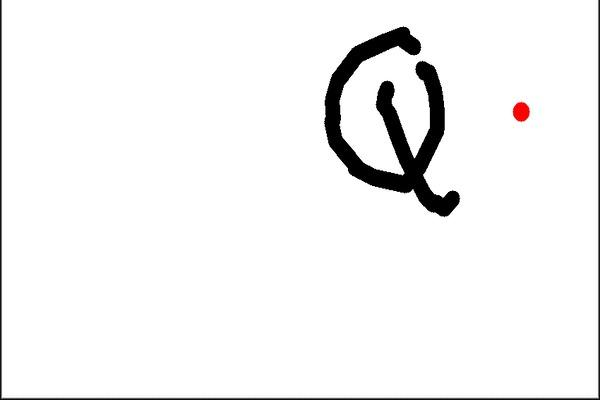Q: (311, 14, 470, 221)
